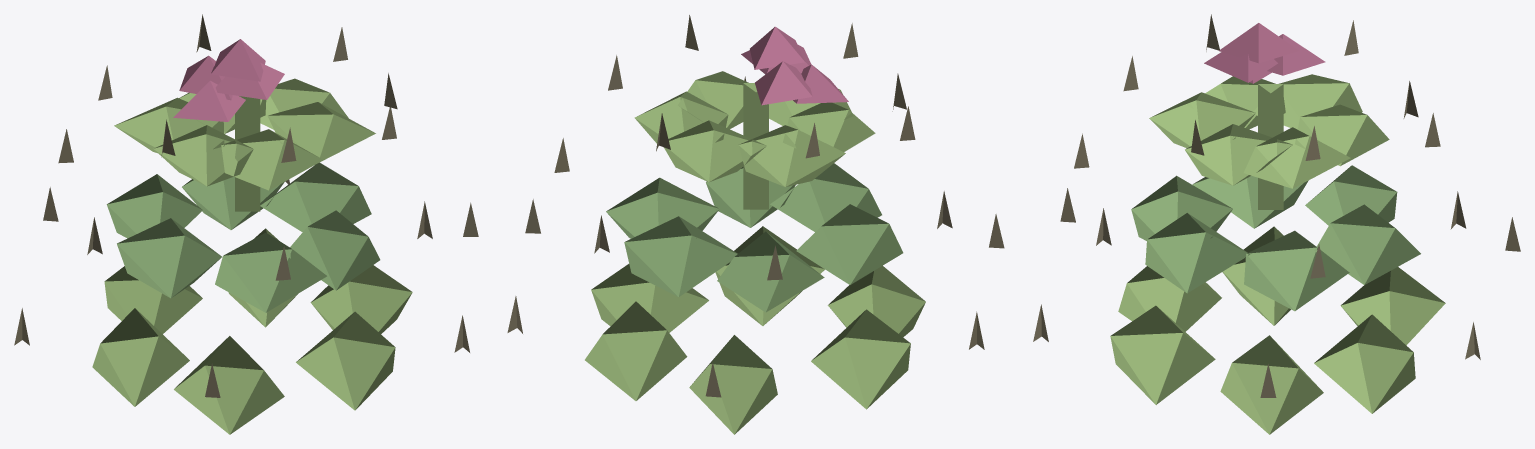
Rendered from shrub.trop.desert_succulent__bloom.glb.
The picture shows the model from 3 angles, left to right: view 1: azimuth 30°, elevation 25°; view 2: azimuth 150°, elevation 25°; view 3: azimuth 270°, elevation 25°; orthographic projection.
Parts seen in each view (by area): view 1: shrub.trop.desert_succulent__bloom; view 2: shrub.trop.desert_succulent__bloom; view 3: shrub.trop.desert_succulent__bloom.
Part boxes in pixels (<box>): shrub.trop.desert_succulent__bloom: <box>14,14,478,434</box>; shrub.trop.desert_succulent__bloom: <box>507,15,1004,434</box>; shrub.trop.desert_succulent__bloom: <box>1033,14,1520,434</box>.
Size of the model in its own units: 1.8 by 1.31 by 1.64.
